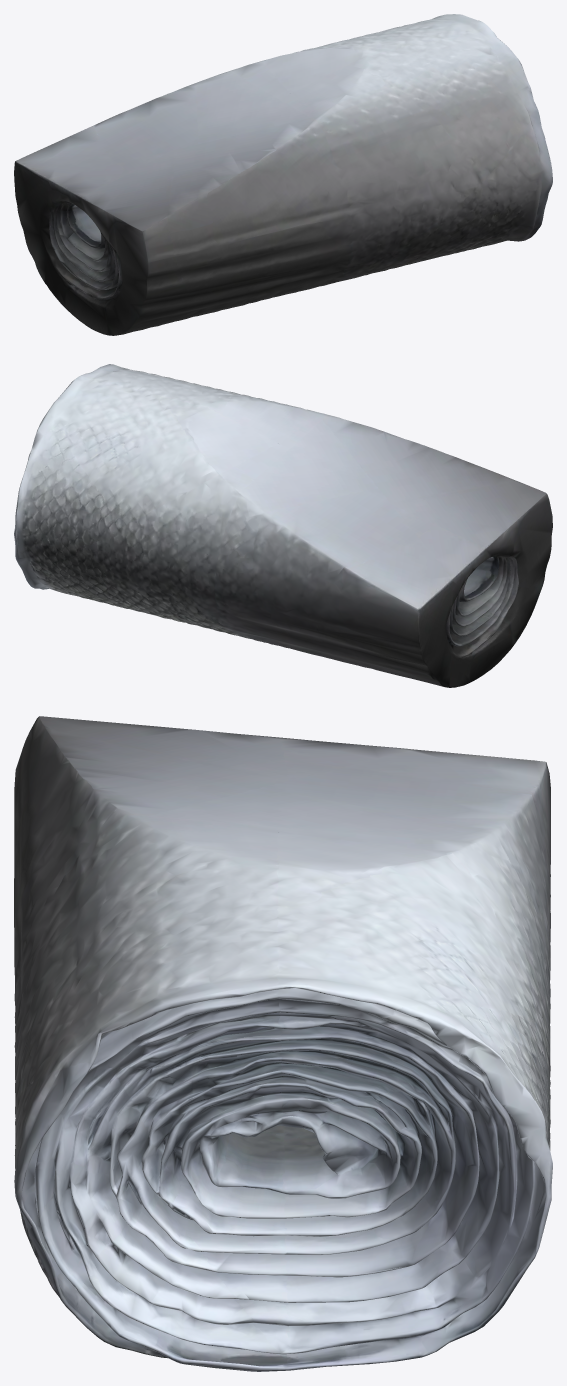
Rendered from yhdrainpro-202.glb.
3 views of the same model, one above another, from view 1: azimuth 30°, elevation 25°; view 2: azimuth 150°, elevation 25°; view 3: azimuth 270°, elevation 25° (orthographic). The views are drawn at different scales.
Parts seen in each view (by area): view 1: tripo_node_0a8febea-1683-4f3e-8901-7e8e87709d83; view 2: tripo_node_0a8febea-1683-4f3e-8901-7e8e87709d83; view 3: tripo_node_0a8febea-1683-4f3e-8901-7e8e87709d83.
Part boxes in pixels (bbox=[...]): tripo_node_0a8febea-1683-4f3e-8901-7e8e87709d83: bbox=[14, 14, 552, 335]; tripo_node_0a8febea-1683-4f3e-8901-7e8e87709d83: bbox=[14, 364, 552, 687]; tripo_node_0a8febea-1683-4f3e-8901-7e8e87709d83: bbox=[14, 716, 552, 1371].
Bounding box in the file's own units: 0.9998 × 0.4665 × 0.5748.
Materials: 1 (1 with a texture image).
